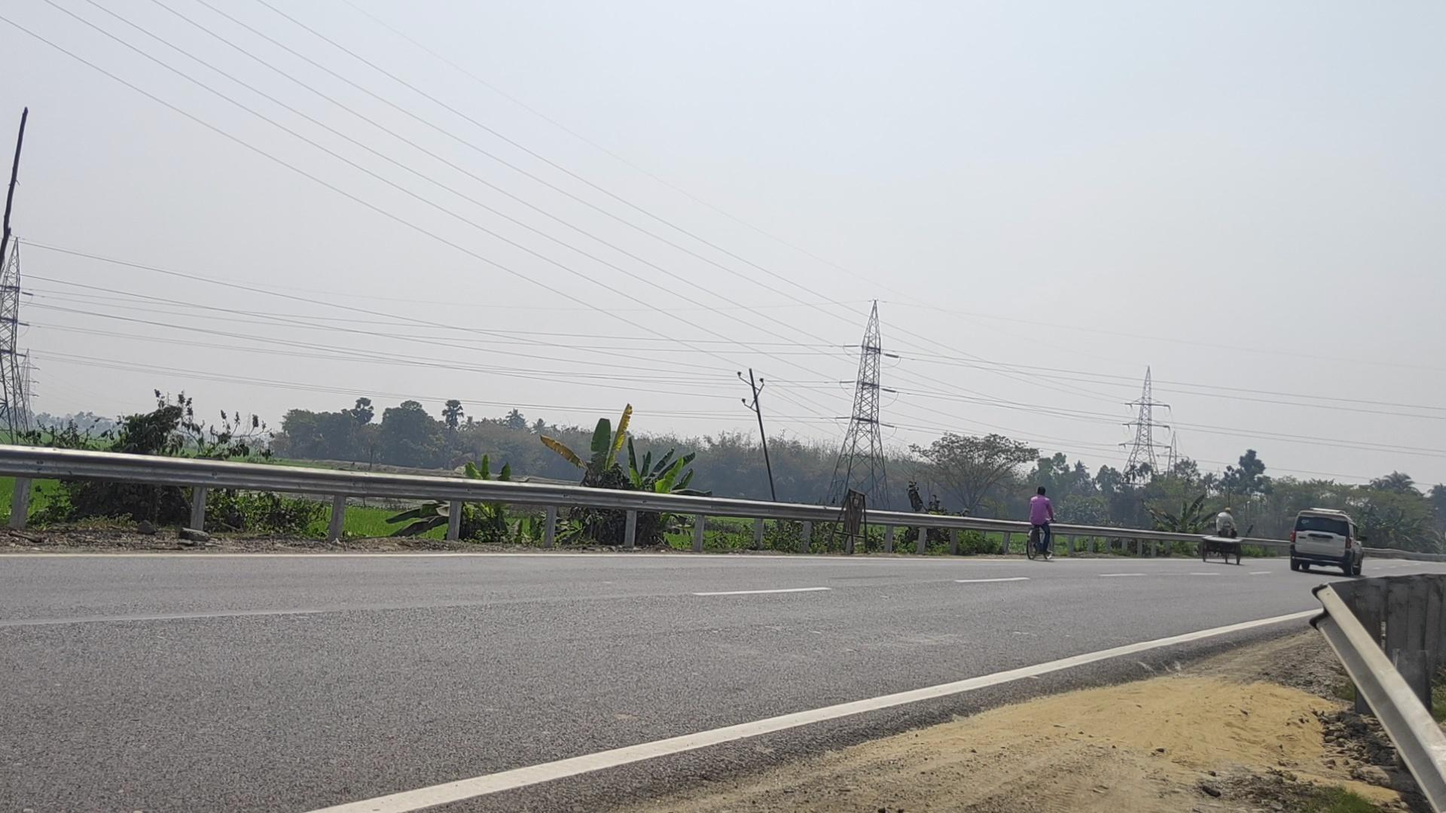bike: (1026, 486, 1057, 561)
car: (1290, 507, 1365, 577)
